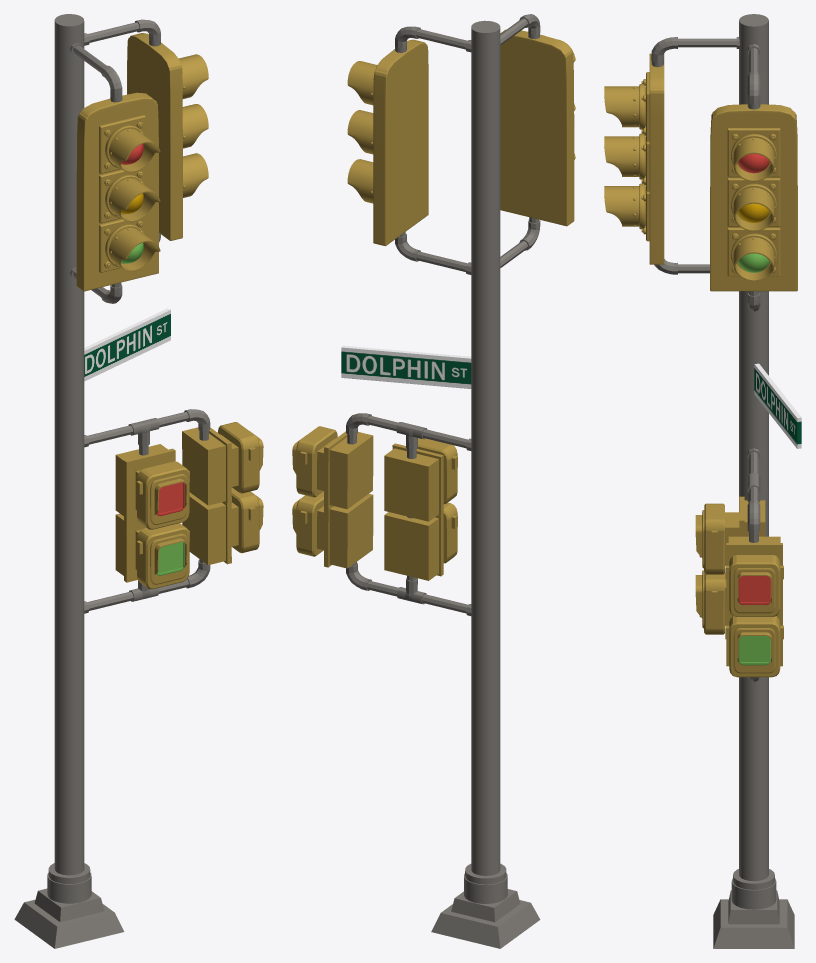
Rendered from traffic_signal.fbx.
3 renders of one model, left to right at view 1: azimuth 30°, elevation 25°; view 2: azimuth 150°, elevation 25°; view 3: azimuth 270°, elevation 25°, orthographic.
Parts seen in each view (by area): view 1: pCylinder22; view 2: pCylinder22; view 3: pCylinder22.
Part boxes in pixels (x1,y1,x2,y2): pCylinder22: (14,14,263,948); pCylinder22: (292,14,575,948); pCylinder22: (604,14,801,948).
Size of the model in its own units: 6.44 by 24.92 by 4.9.
